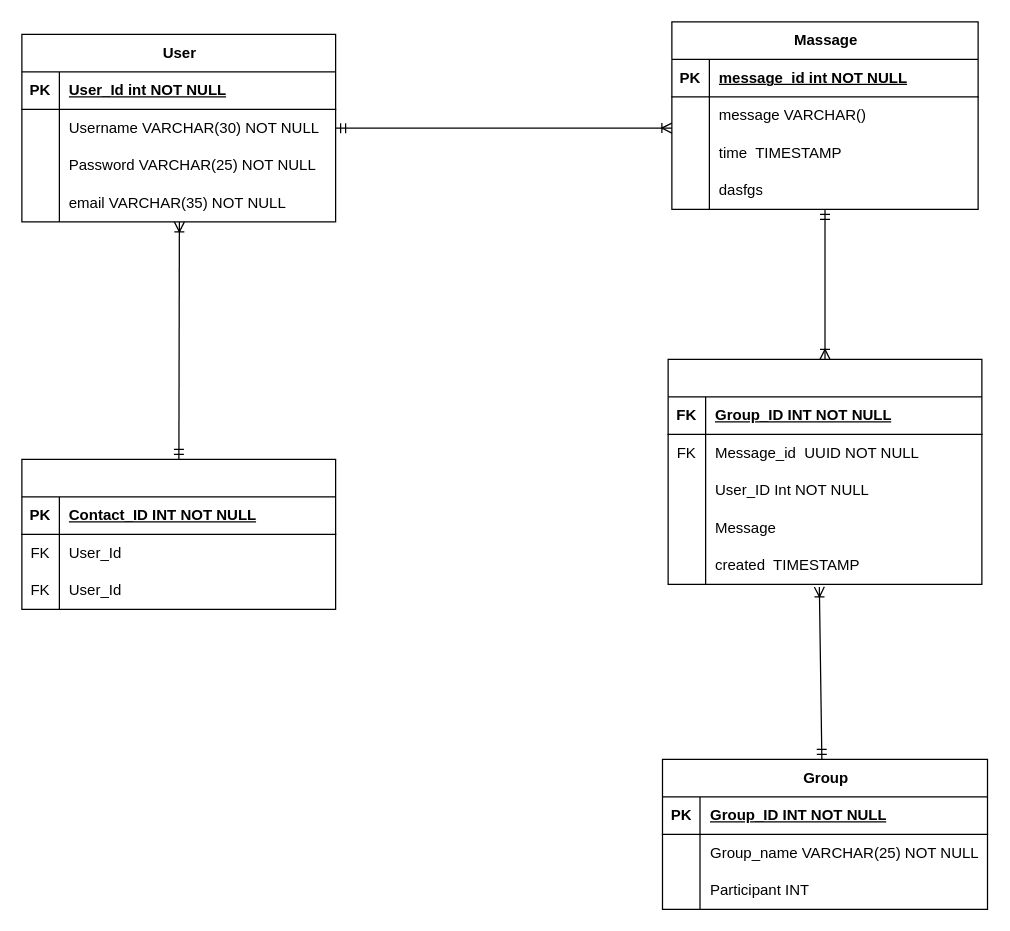
Some shapes in this 1010 by 931 pixel diagram are drawn without their labels. The box of each missing label's shape, as (x1, y1, x2, y2) in pixels:
Contacts: (21, 458, 336, 609)
Group_Message: (667, 358, 982, 584)
